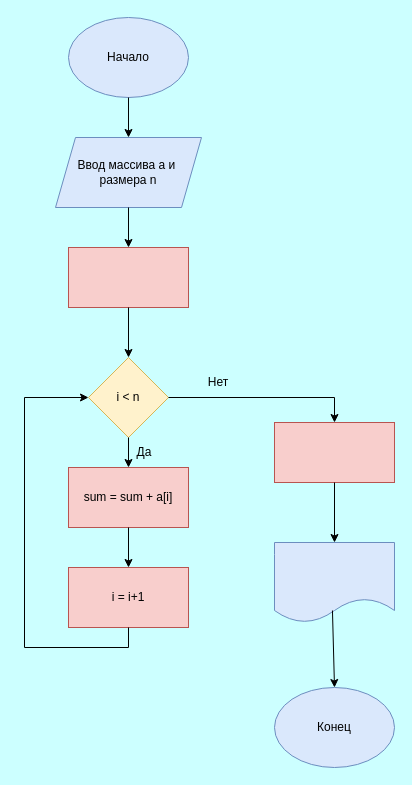
The diagram is 412 pixels wide and 785 high, and some of its shapes have lost their labels. The shapes that lost their labels are listed below. From the top down, each one's box as (x1, y1, x2, y2) in pixels, then its label:
(68, 246, 188, 308): i = 0 sum = 0
(274, 422, 394, 482): average = sum / n
(274, 542, 394, 622): Вывод average
